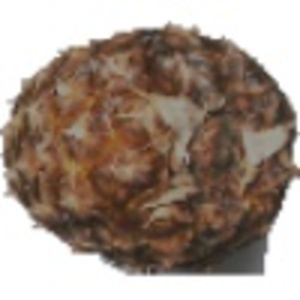abacaxi: (6, 12, 300, 265)
